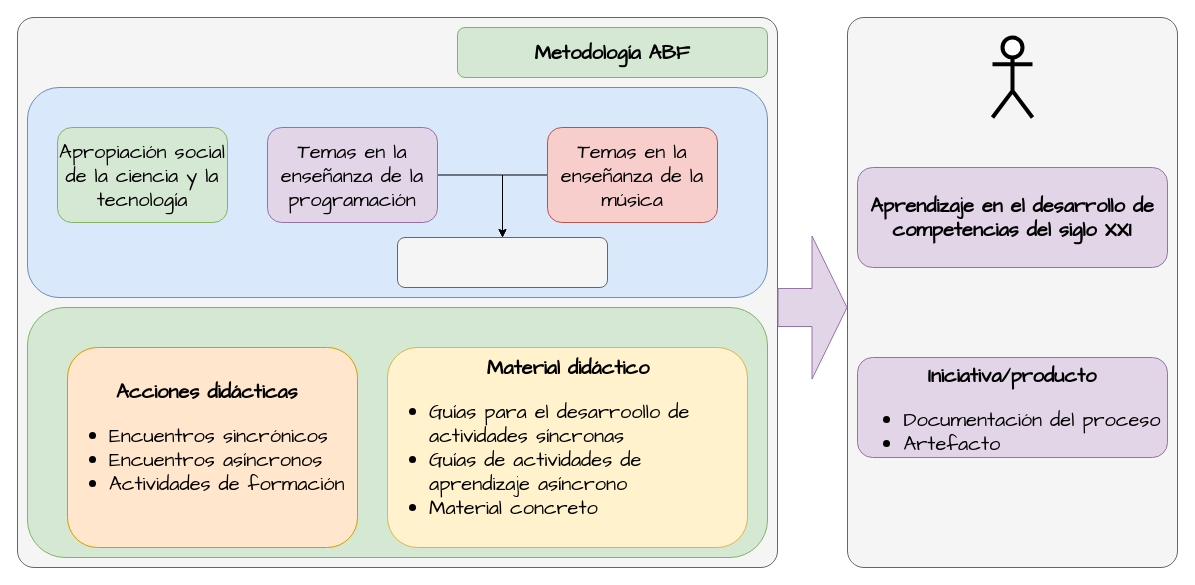
This 1195x585 diagram has some shape labels left out. Each missing label, with the box of its shape:
Ejes temáticos: (26, 86, 768, 298)
Estrategias y herramientas didácticas: (26, 306, 768, 558)
Estudiante/Profesor: (990, 35, 1034, 119)
Relación entre conceptos musicales y programación: (396, 236, 608, 288)
